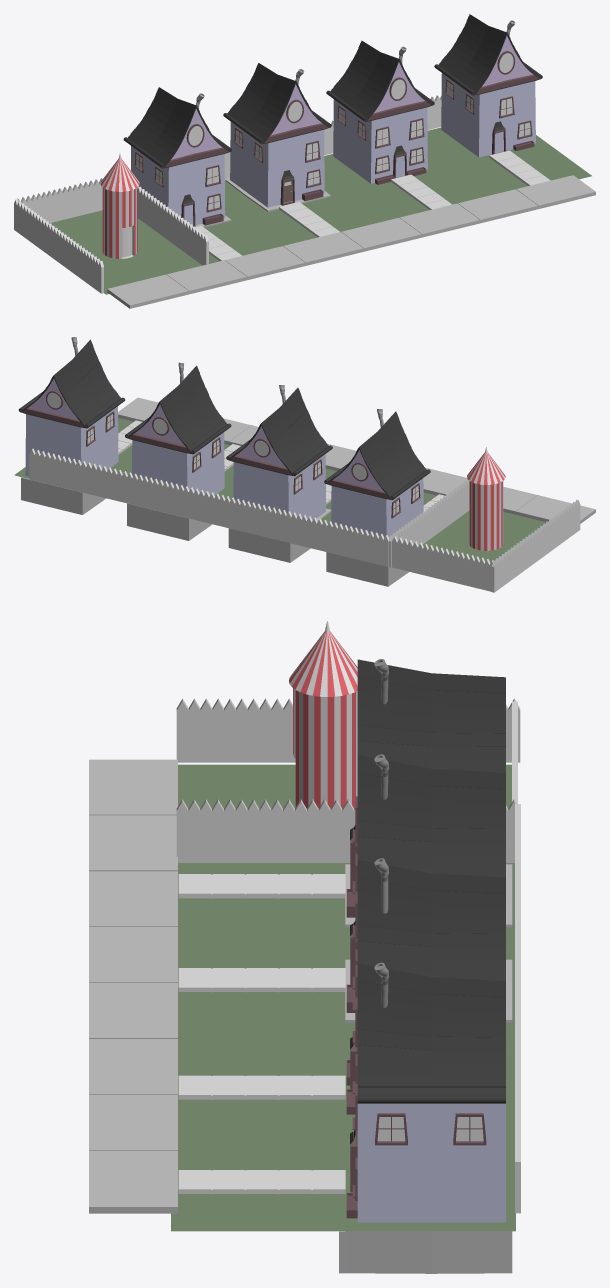
Rendered from Suburbiav2.fbx.
3 views of the same model, one above another, from view 1: azimuth 30°, elevation 25°; view 2: azimuth 150°, elevation 25°; view 3: azimuth 270°, elevation 25° (orthographic). The views are drawn at different scales.
Visible parts, largest first — view 1: Plane, Sidewalk, house.002, house, house.001, house.003, CircusTent, Fence.002, Fence.001, Fence.003, sidwalk, sidwalk.003 (+3 smaller); view 2: Fence, house.001, house.002, house, house.003, Sidewalk, Plane, Fence.003, CircusTent, Fence.002, Fence.001; view 3: Plane, house.001, Sidewalk, house.002, house, house.003, Fence.001, CircusTent, Fence.002, sidwalk.001, sidwalk.002, sidwalk (+2 smaller).
Boxes of the visible parts, x1,y1,x2,y2 form: Plane: (49, 127, 591, 294); Sidewalk: (107, 175, 595, 308); house.002: (223, 63, 331, 211); house: (326, 40, 434, 184); house.001: (434, 14, 542, 157); house.003: (123, 87, 231, 227); CircusTent: (100, 153, 139, 258); Fence.002: (14, 199, 103, 293); Fence.001: (137, 186, 208, 265); Fence.003: (17, 178, 102, 223); sidwalk: (279, 202, 339, 237); sidwalk.003: (489, 150, 550, 185); Fence: (29, 448, 388, 566); house.001: (18, 337, 125, 514); house.002: (226, 385, 332, 562); house: (125, 362, 231, 540); house.003: (324, 409, 430, 586); Sidewalk: (118, 397, 595, 523); Plane: (14, 418, 545, 591); Fence.003: (392, 536, 493, 591); CircusTent: (467, 447, 505, 550); Fence.002: (491, 499, 580, 592); Fence.001: (388, 479, 469, 567); Plane: (171, 764, 515, 1231); house.001: (339, 962, 512, 1273); Sidewalk: (89, 759, 177, 1213); house.002: (345, 754, 512, 1022); house: (346, 858, 505, 1114); house.003: (345, 659, 512, 927); Fence.001: (176, 799, 516, 862); CircusTent: (289, 621, 357, 808); Fence.002: (176, 698, 520, 762); sidwalk.001: (178, 874, 345, 898); sidwalk.002: (178, 1075, 345, 1099); sidwalk: (178, 968, 345, 992).
Size of what is drawn, in the model's own units: 3904 by 1143 by 1517.
